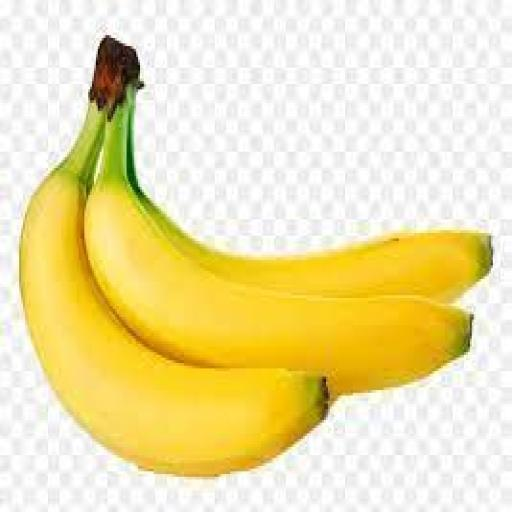banana: (85, 90, 471, 395), (22, 103, 327, 476)
